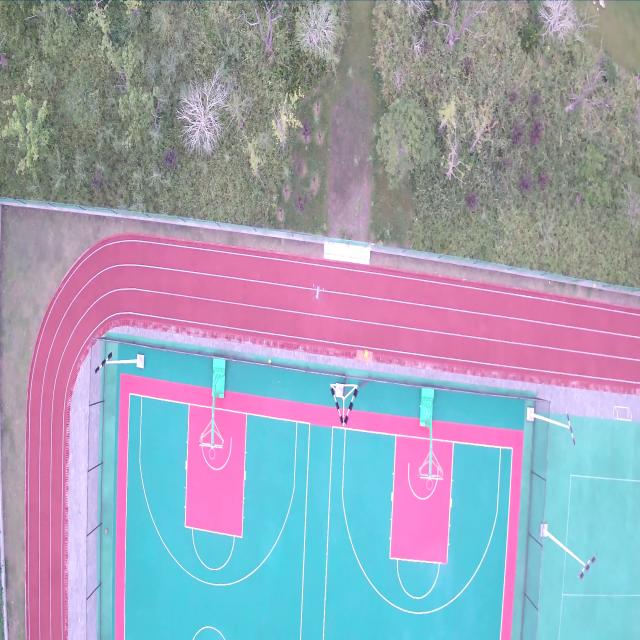UAV: (311, 281, 324, 305)
